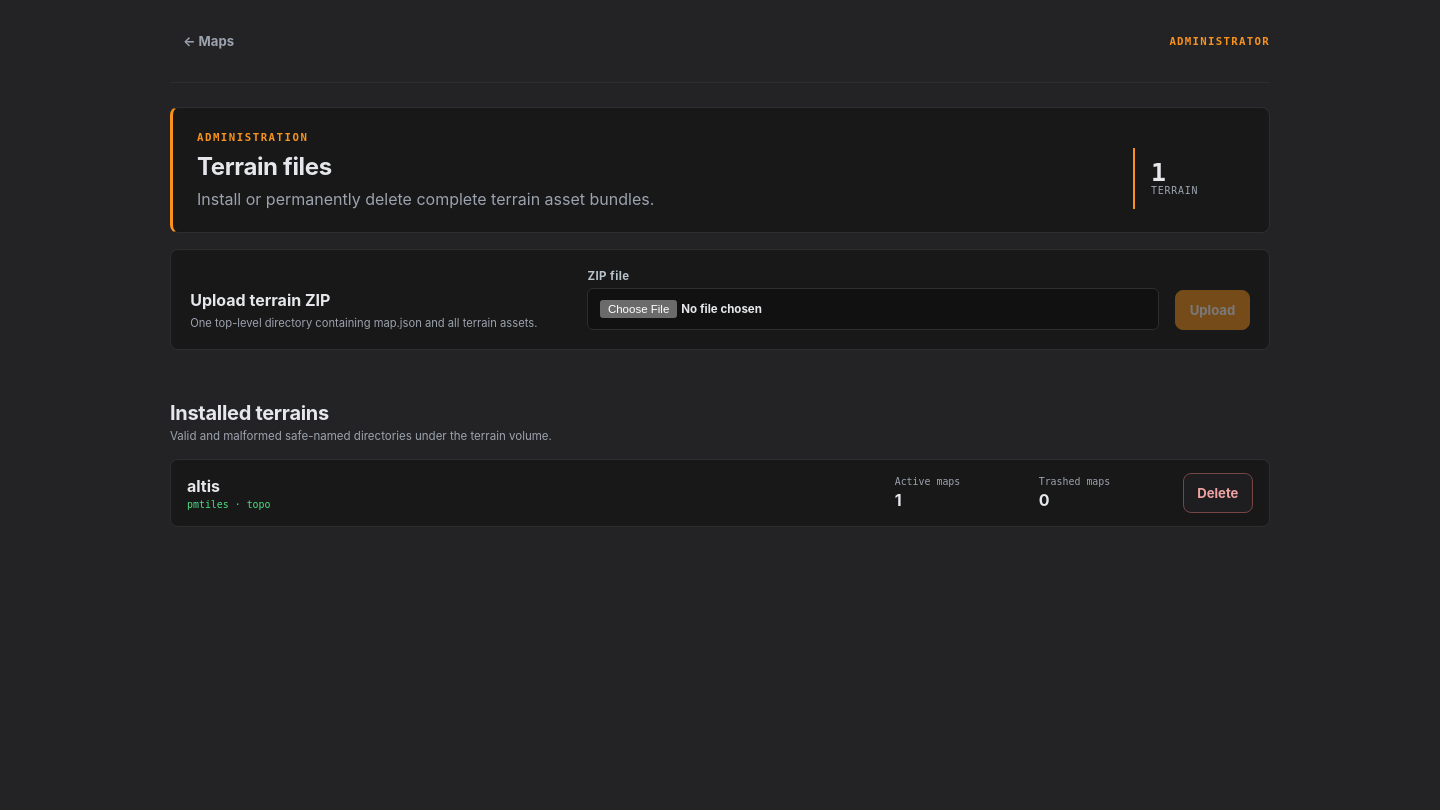
Test case: refreshes stale delete counts and requires confirmation again
Click the button "Delete".
click(1218, 493)  # box [1183,473,1253,513]
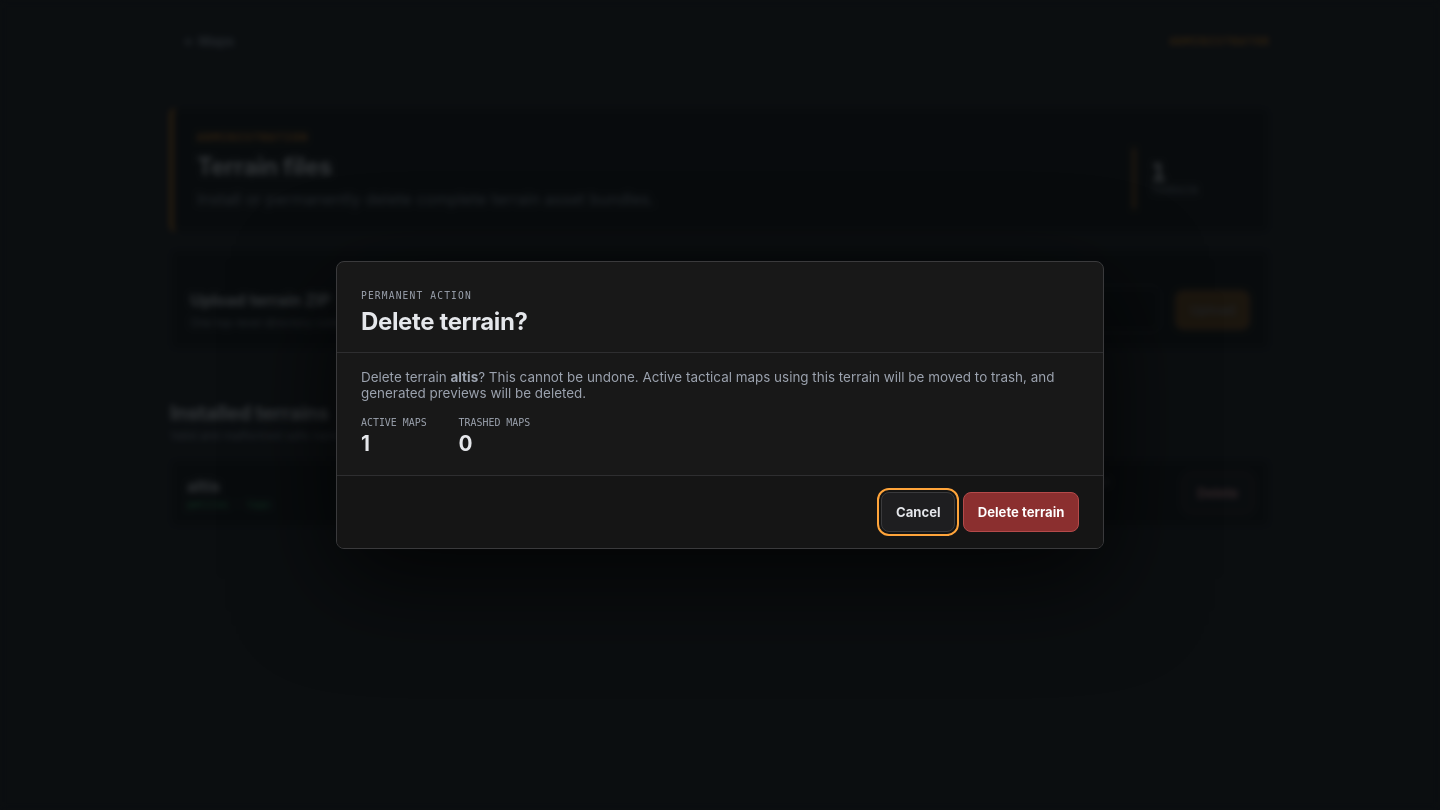
Click the button "Delete terrain".
click(1021, 512)  # box [963,492,1079,532]
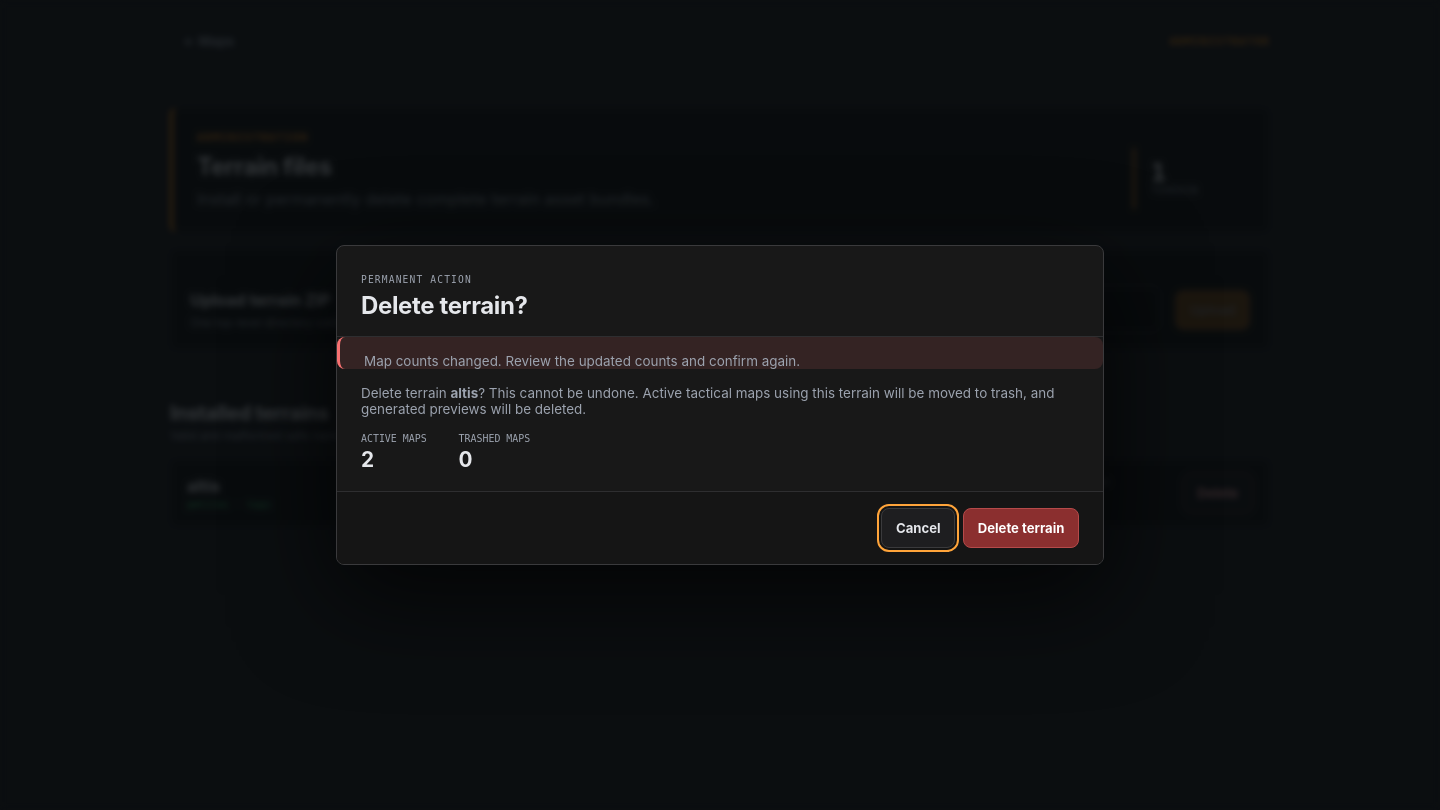
Check: the message shows "Map counts changed", box [364,353,800,369]
Check: the text "2" is shown, box [361,447,374,472]
